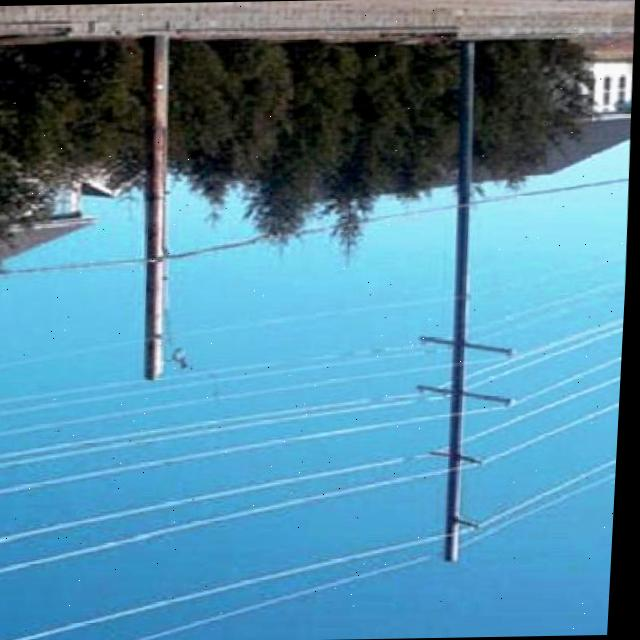poles: (407, 40, 533, 563)
wires: (0, 443, 444, 577), (3, 517, 440, 640), (0, 382, 429, 502), (0, 338, 450, 440), (471, 372, 624, 467), (474, 457, 619, 544), (472, 311, 624, 393), (467, 280, 624, 347)
